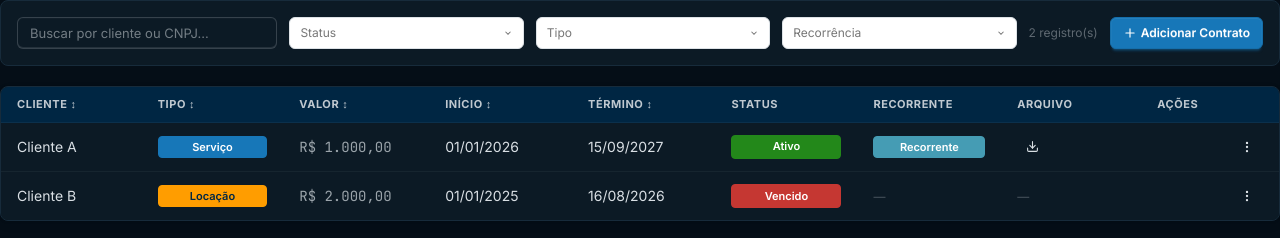
filters by type using MultiSelect
Click the button "Tipo" at (653, 33), box [536,17,770,49]
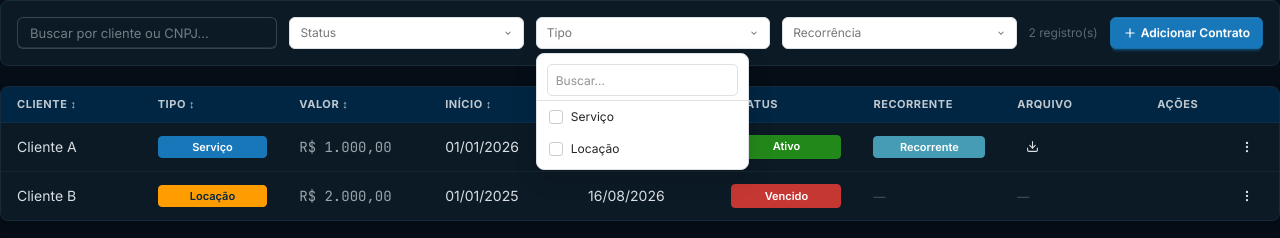
Click the text "Locação" at (584, 148), box [549,141,619,156]
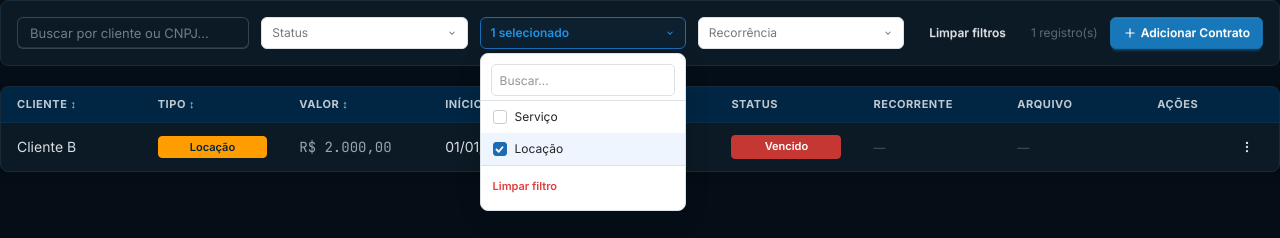
Check: the text "Cliente B" is shown, box [1,122,142,171]
Check: the button "Cliente A" is gone
